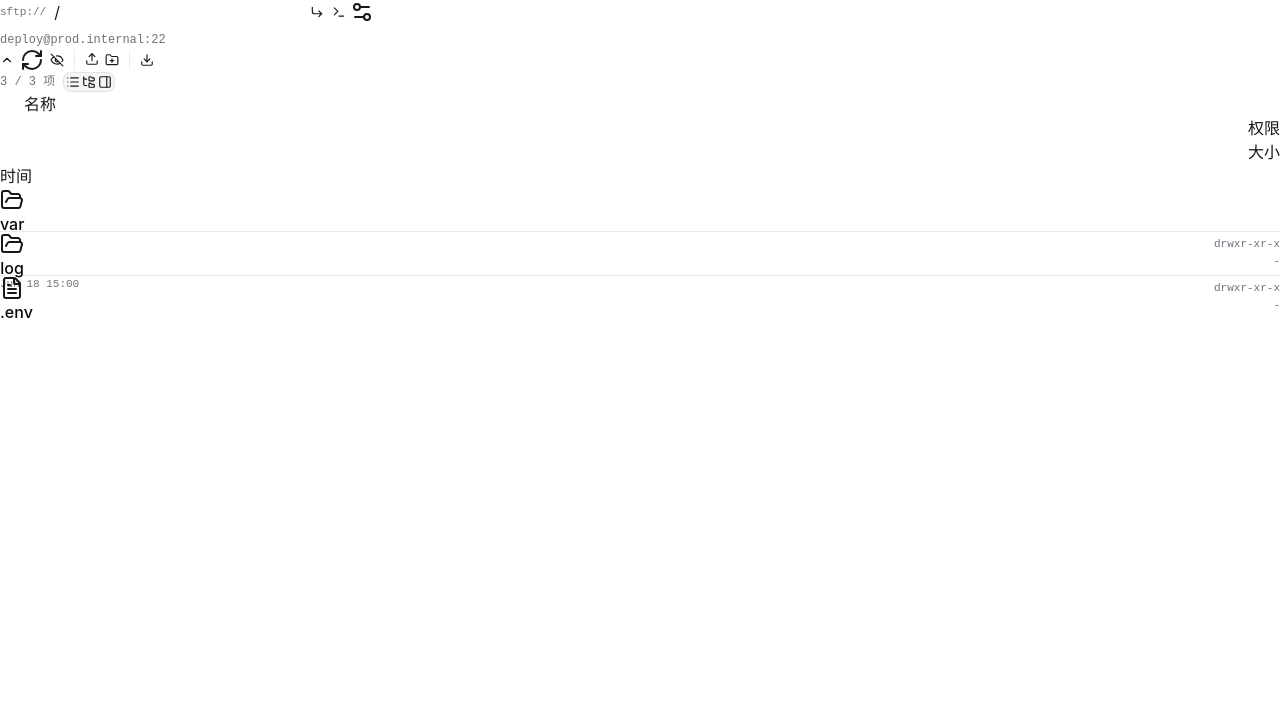
SftpToolContent events and dialogs › opens the name-only rename dialog with F2 for a single selection
This screenshot has width=1280, height=720.
Expected: the text "var" is shown, [0,214,24,234]
Double-click the button with aria-label "打开目录 log" at (12, 256), box [0,232,24,280]
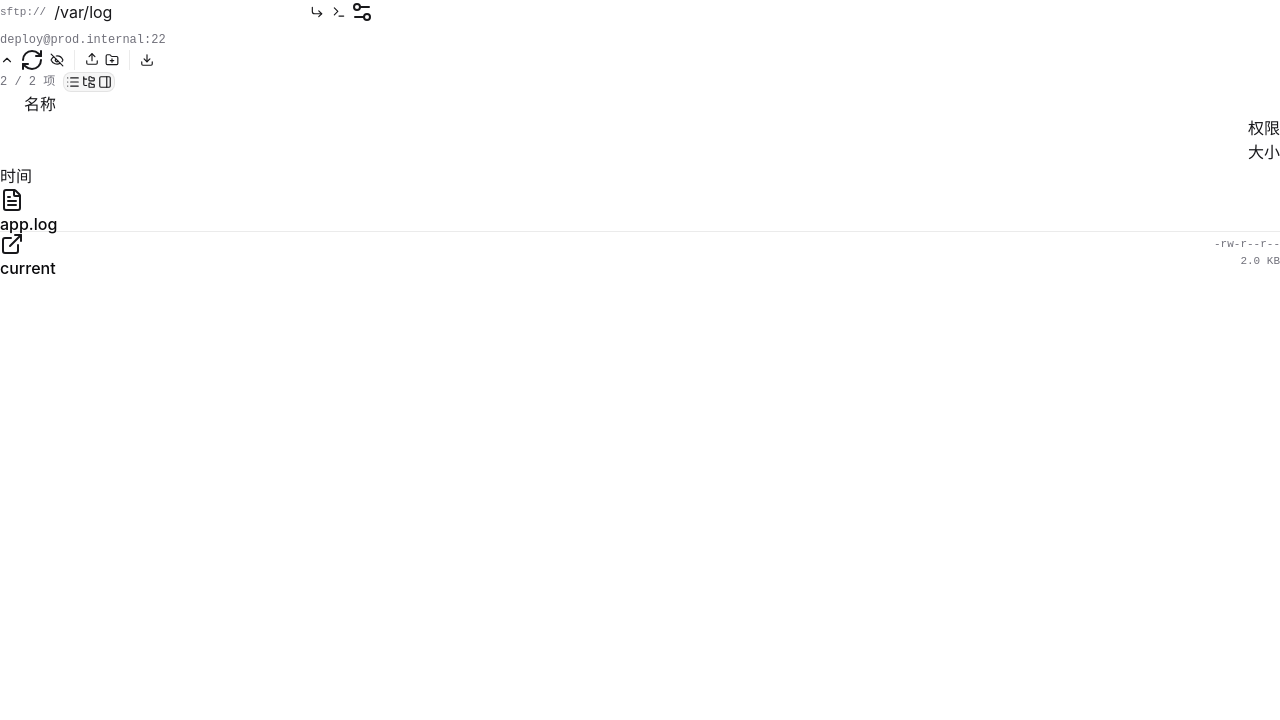
Click the button with aria-label "文件 app.log" at (29, 212), box [0,188,57,236]
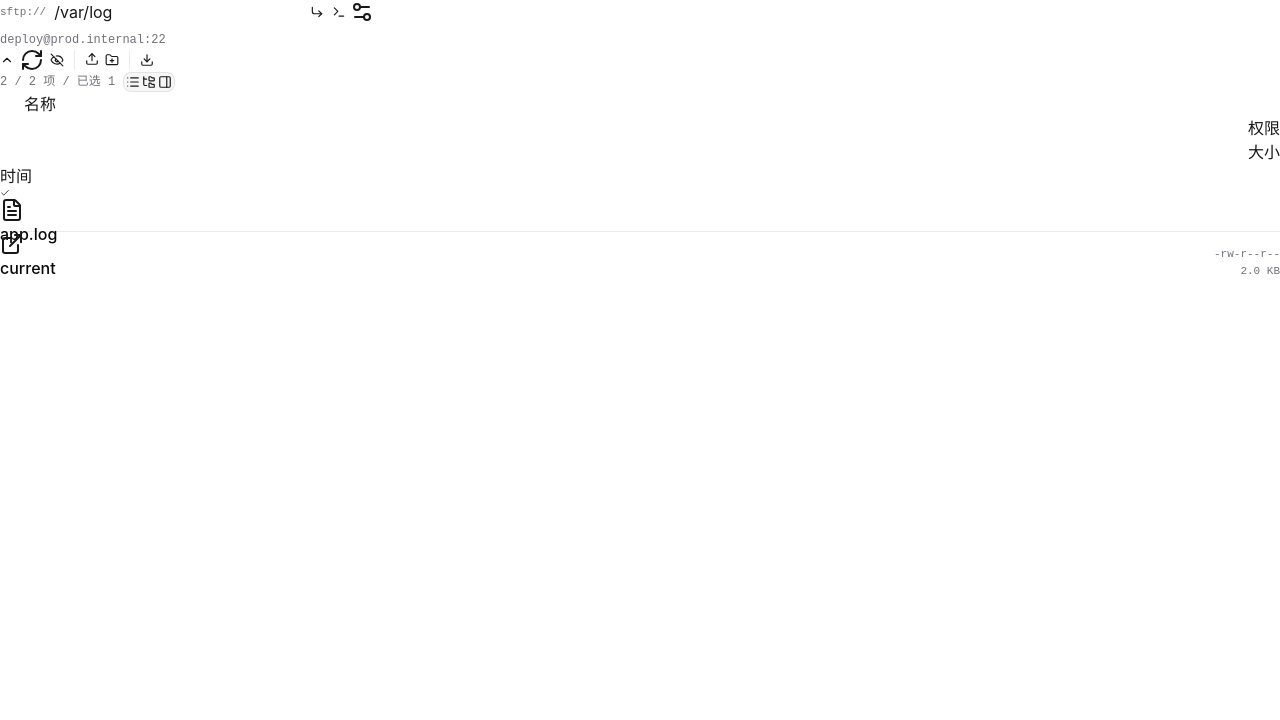
Press F2 in the element that starts with "sftp://", box [0,0,1279,334]
(page scrolled)
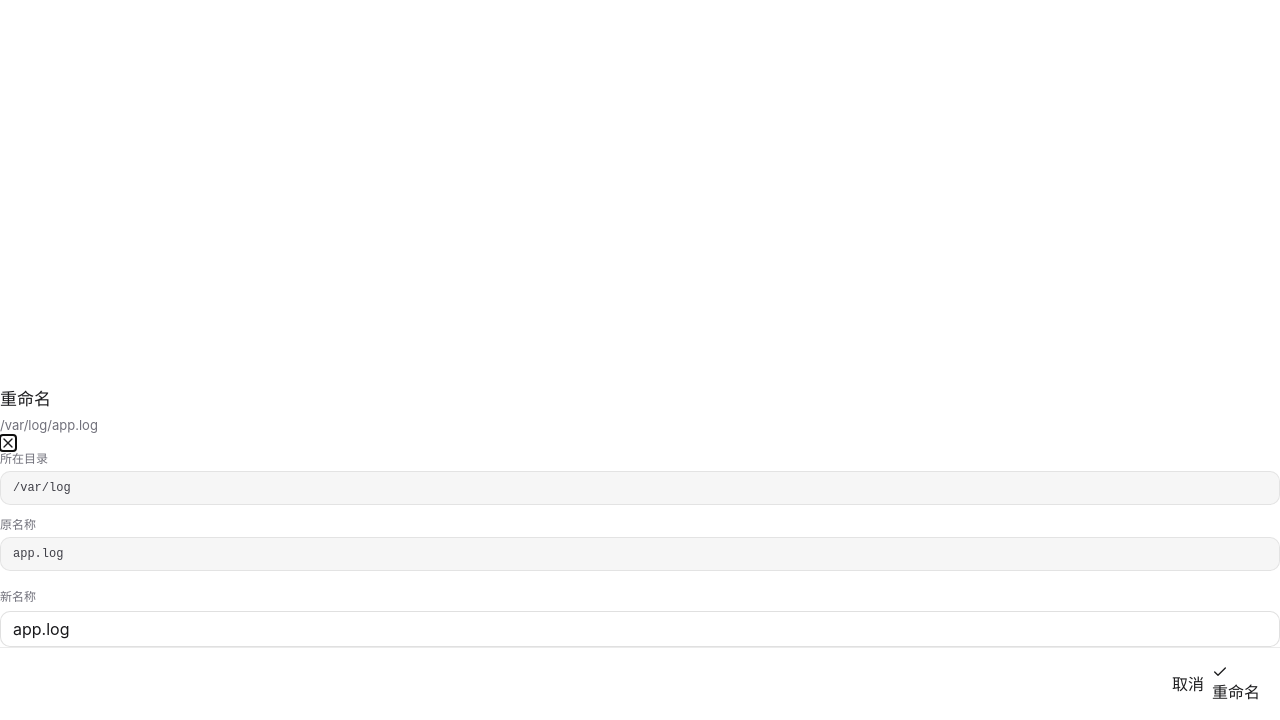
Expected: the dialog "重命名" is shown, [0,387,1279,719]
Expected: the field labelled "新名称" holds "app.log", [0,611,1279,647]
